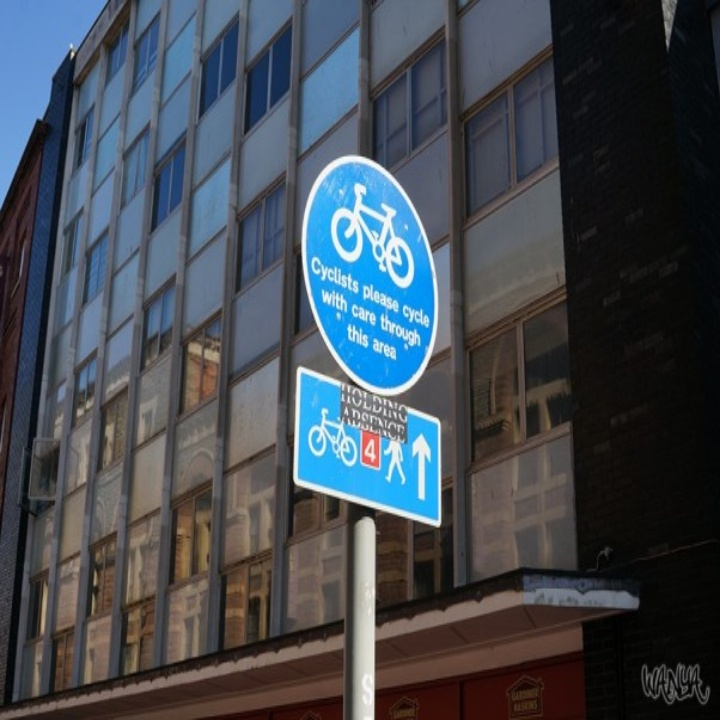bicycle: (329, 179, 415, 291), (308, 407, 359, 470)
